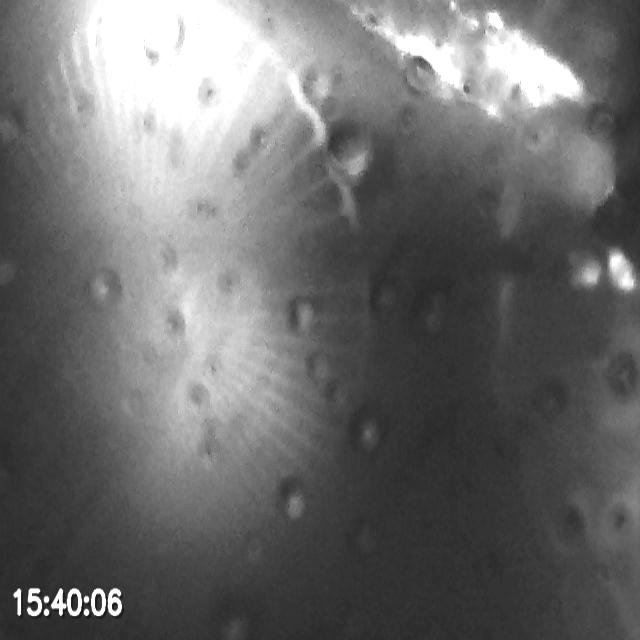white-dots: (571, 246, 640, 293)
